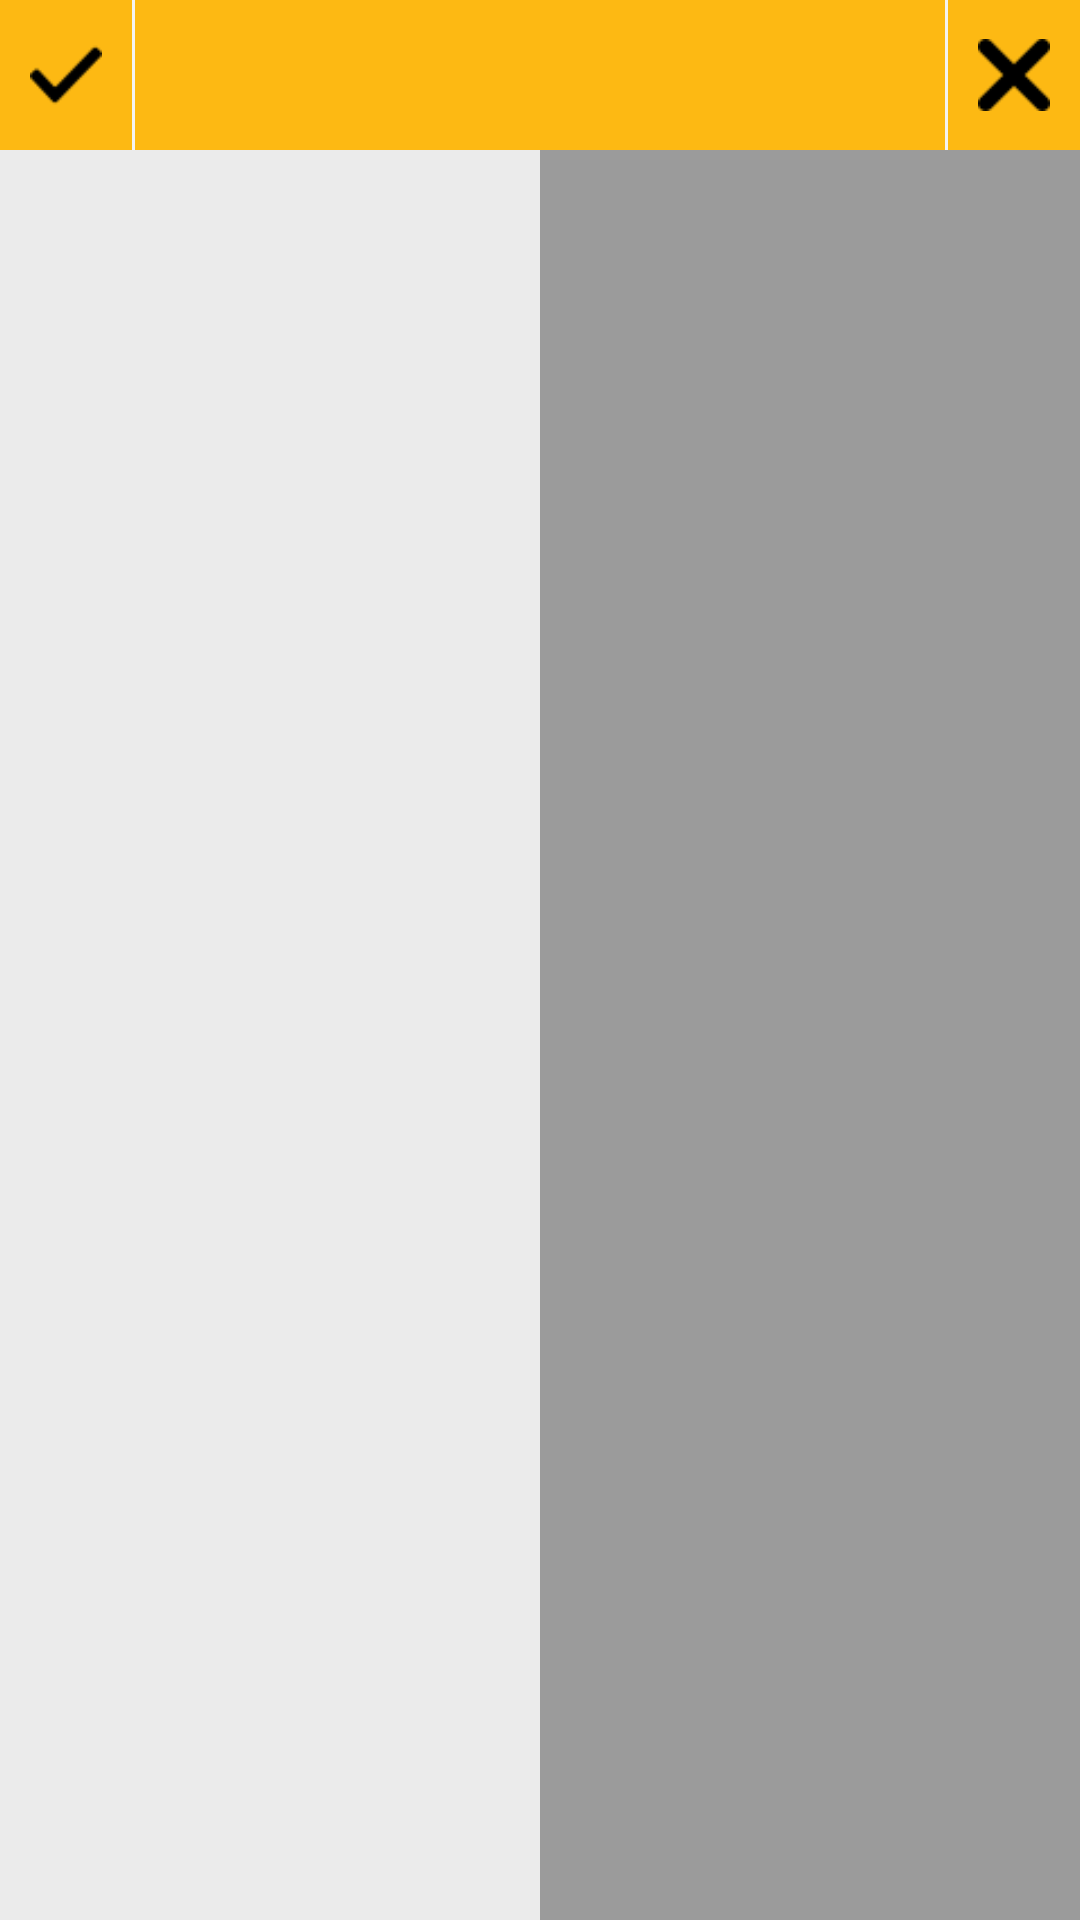

Named icons in this screenshot (1080x1920) and their bounding boxes, [left=x1, top=y1, right=x2, bottom=y2]:
checked: [left=30, top=47, right=102, bottom=104]
cross: [left=978, top=39, right=1050, bottom=111]
